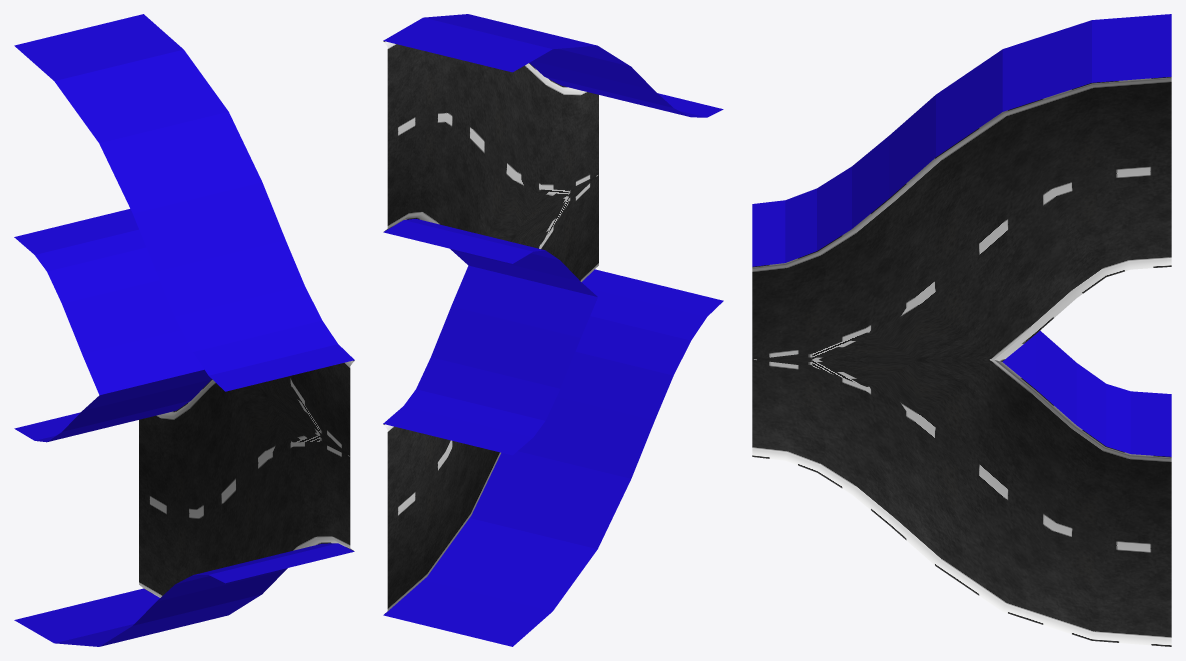
The model's file is RoadSplitter.fbx.
3 views of the same model, side by side, from view 1: azimuth 30°, elevation 25°; view 2: azimuth 150°, elevation 25°; view 3: azimuth 270°, elevation 25° (orthographic).
Visible parts, largest first — view 1: sbendRight2; view 2: sbendRight2; view 3: sbendRight2.
Boxes of the visible parts, x1=… form: sbendRight2: x1=14, y1=14, x2=354, y2=646; sbendRight2: x1=383, y1=14, x2=723, y2=646; sbendRight2: x1=752, y1=14, x2=1171, y2=646.
Bounding box in the file's own units: 1417 × 6000 × 4000.
2 materials, 1 textured.
